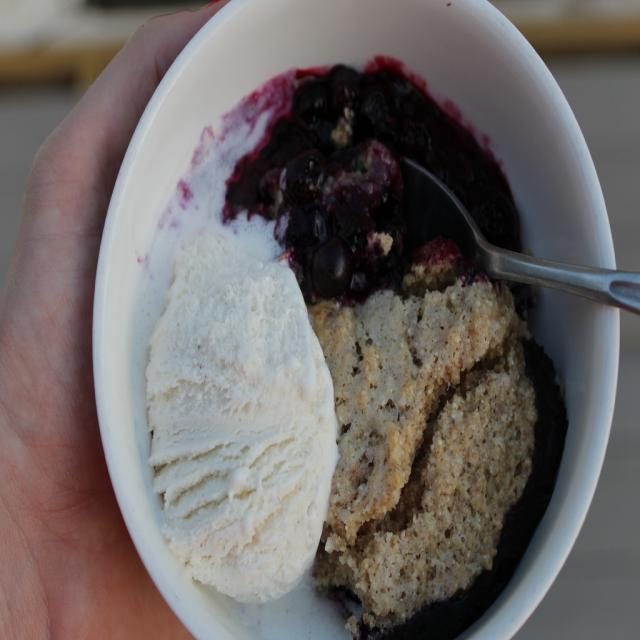Ice cream: (141, 63, 570, 640)
